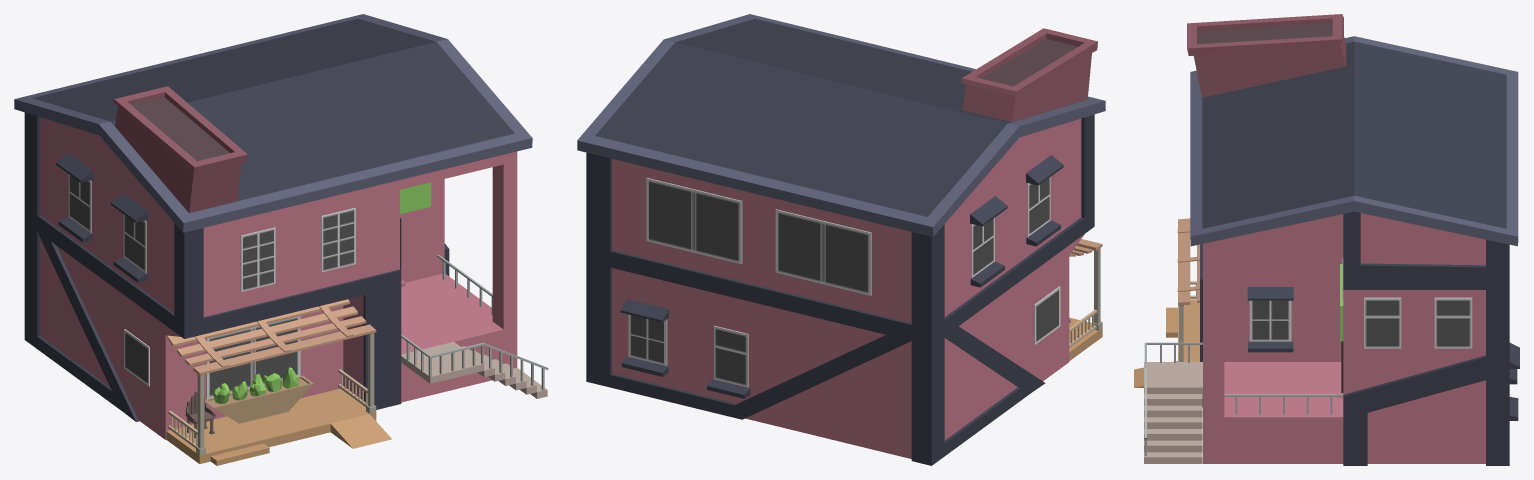
Rendered from house06_color02.fbx.
3 views of the same model, side by side, from view 1: azimuth 30°, elevation 25°; view 2: azimuth 150°, elevation 25°; view 3: azimuth 270°, elevation 25° (orthographic). The views are drawn at different scales.
Parts seen in each view (by area): view 1: Cube.408, Cube.409, Cube.410; view 2: Cube.408, Cube.409; view 3: Cube.408, Cube.409.
Part boxes in pixels (x1,y1,x2,y2): Cube.408: (14, 14, 548, 465); Cube.409: (113, 86, 247, 212); Cube.410: (185, 391, 215, 438); Cube.408: (577, 14, 1105, 465); Cube.409: (961, 28, 1097, 121); Cube.408: (1134, 36, 1519, 465); Cube.409: (1187, 14, 1346, 97).
Bounding box in the file's own units: 1265 × 1042 × 1240.
